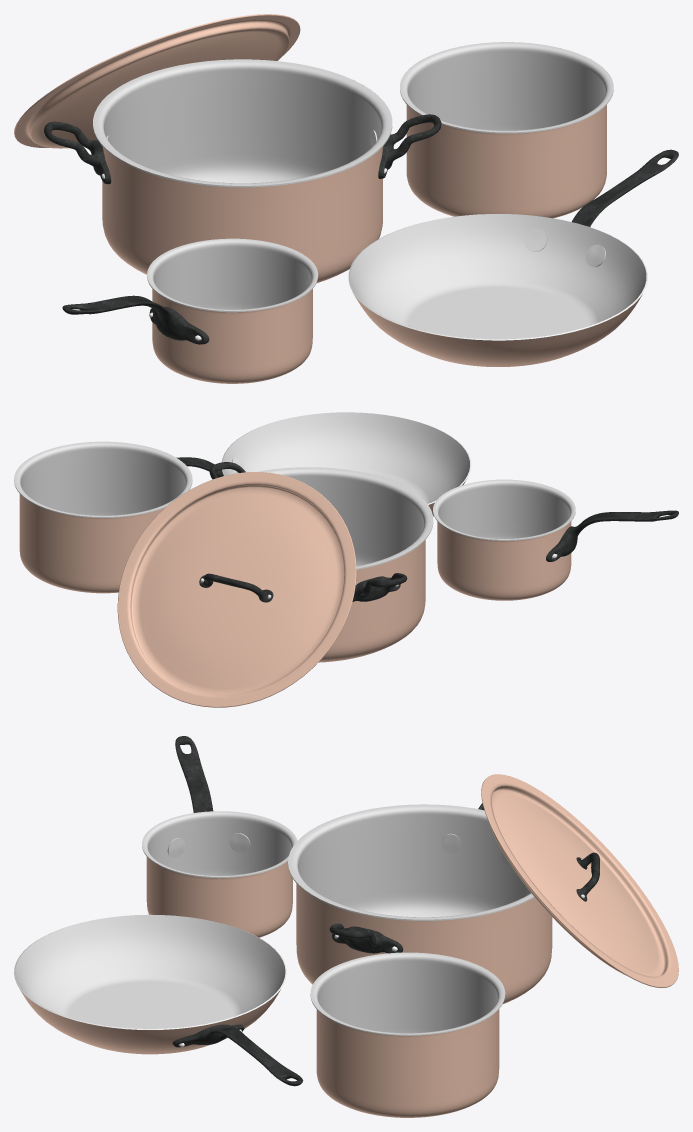
File: copper_pots_2k_comp.glb
3 renders of one model, top to bottom at view 1: azimuth 30°, elevation 25°; view 2: azimuth 150°, elevation 25°; view 3: azimuth 270°, elevation 25°, orthographic. The views are drawn at different scales.
Visible parts, largest first — view 1: Pot 28cm, Wok, Pot 20cm, Pot 16cm, Lid, Cube.003, Handle Wok, Handle Small; view 2: Lid, Pot 20cm, Pot 16cm, Pot 28cm, Wok, Handle Small, Cube.003, Lid Handle; view 3: Pot 28cm, Wok, Pot 20cm, Lid, Pot 16cm, Handle Small, Handle Wok, Cube.003, Lid Handle.
Boxes of the visible parts, box(x1,y1,x2,y2) form: Pot 28cm: box(93, 59, 392, 282); Wok: box(348, 214, 647, 366); Pot 20cm: box(400, 42, 613, 218); Pot 16cm: box(147, 238, 318, 383); Lid: box(14, 14, 300, 148); Cube.003: box(44, 114, 441, 184); Handle Wok: box(524, 149, 678, 267); Handle Small: box(62, 295, 209, 344); Lid: box(117, 472, 356, 707); Pot 20cm: box(14, 441, 192, 593); Pot 16cm: box(433, 479, 575, 600); Pot 28cm: box(258, 467, 433, 662); Wok: box(221, 412, 471, 516); Handle Small: box(546, 510, 678, 561); Cube.003: box(209, 462, 407, 601); Lid Handle: box(199, 573, 273, 602); Pot 28cm: box(288, 804, 552, 1003); Wok: box(14, 914, 286, 1054); Pot 20cm: box(310, 952, 505, 1117); Lid: box(481, 774, 678, 987); Pot 16cm: box(142, 811, 297, 937); Handle Small: box(167, 736, 250, 858); Handle Wok: box(172, 1024, 303, 1086); Cube.003: box(329, 803, 510, 953); Lid Handle: box(576, 852, 599, 901).
Bounding box in the file's own units: 1.42 × 0.3957 × 1.33.
5 materials, 1 textured.
